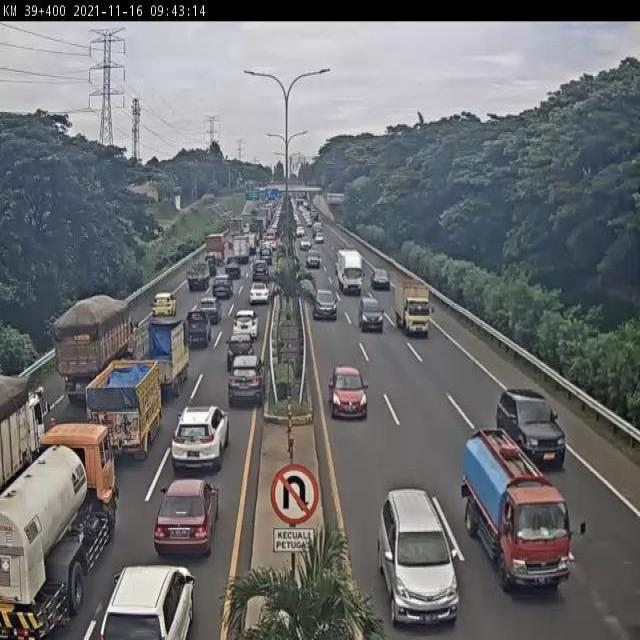car: (373, 483, 468, 629), (97, 556, 201, 640), (492, 382, 573, 474), (152, 476, 219, 560), (166, 405, 228, 472), (222, 351, 270, 412), (327, 361, 369, 428), (222, 332, 259, 376), (180, 311, 214, 353), (356, 296, 386, 339), (310, 284, 339, 324), (191, 295, 225, 328), (230, 309, 261, 342), (148, 288, 179, 320), (245, 277, 273, 307), (206, 276, 232, 304), (222, 253, 244, 284), (249, 260, 270, 283), (370, 267, 389, 292), (255, 248, 276, 268), (304, 250, 321, 270)
small truck: (391, 277, 432, 335), (335, 245, 366, 295), (186, 263, 212, 293), (229, 235, 250, 269)
truck-l-: (55, 295, 138, 401)
truck-m-: (0, 417, 124, 640), (458, 420, 584, 597), (88, 356, 164, 456), (0, 369, 51, 491), (126, 316, 191, 400)
